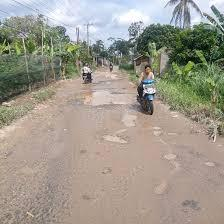Pothole: (156, 125, 224, 200), (54, 76, 145, 110), (100, 112, 140, 148), (156, 93, 180, 123)
